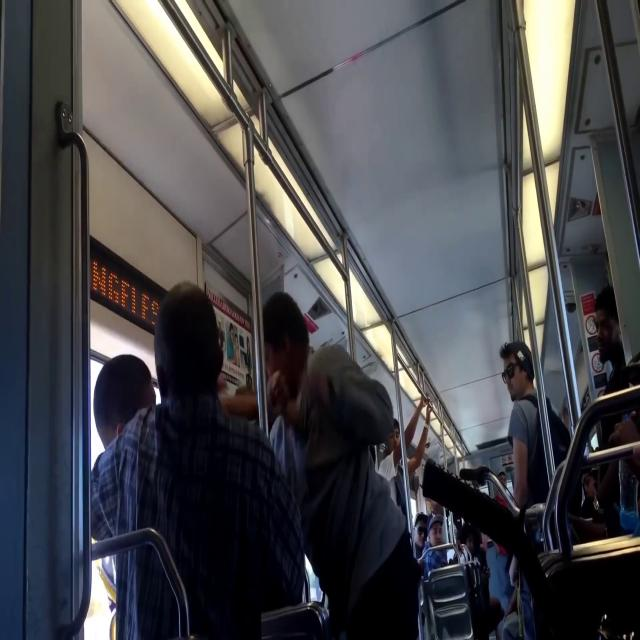non_violence: (499, 340, 569, 498)
